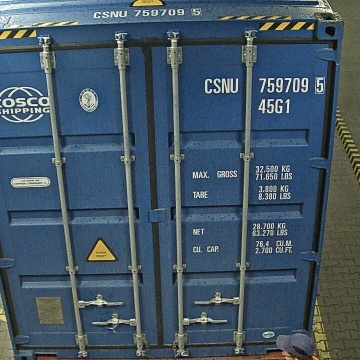serial_id: (205, 77, 325, 93)
